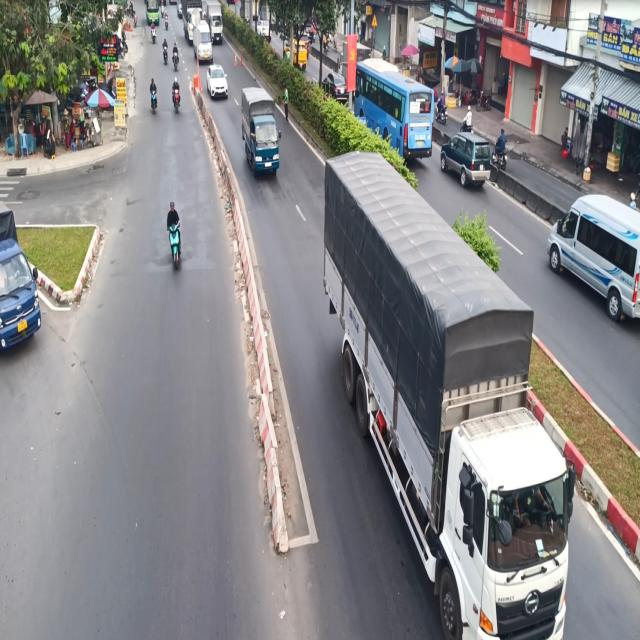bus: (352, 47, 443, 165)
car: (207, 56, 231, 103)
motor: (162, 188, 185, 268), (168, 70, 185, 114), (148, 75, 161, 115)
truck: (318, 156, 580, 640), (240, 80, 280, 181)
